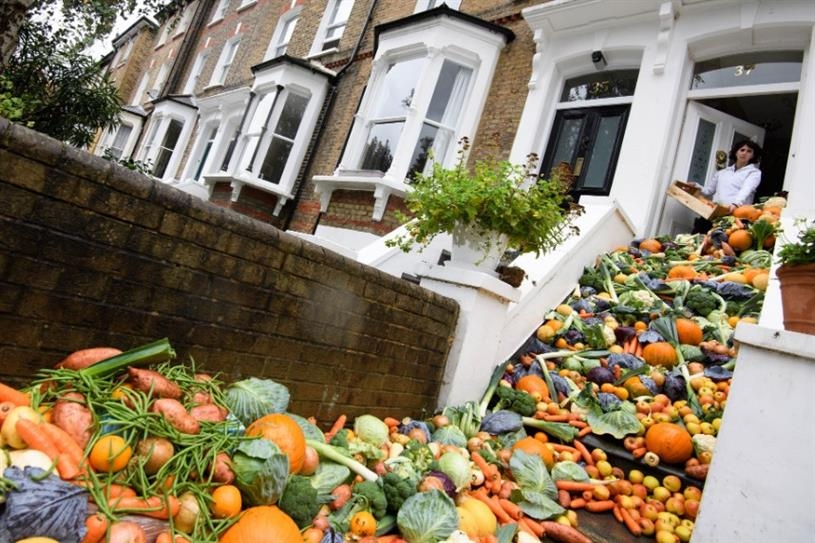kitchen_waste: (74, 326, 182, 387), (239, 408, 321, 476), (222, 434, 292, 506), (14, 413, 84, 484), (390, 486, 463, 543), (212, 502, 309, 543), (220, 375, 297, 418), (503, 446, 564, 500), (497, 484, 574, 524), (339, 477, 392, 529), (57, 342, 128, 379), (639, 418, 698, 461), (146, 393, 203, 437), (88, 430, 139, 476), (130, 434, 190, 473), (128, 363, 186, 400), (353, 411, 405, 450), (487, 382, 539, 419), (434, 448, 477, 491), (381, 467, 417, 512), (578, 316, 620, 354), (638, 335, 684, 368), (428, 418, 472, 452), (539, 517, 595, 543), (514, 371, 557, 401), (583, 363, 631, 389), (78, 509, 114, 543), (681, 285, 717, 319), (669, 314, 705, 346), (346, 508, 379, 540), (612, 505, 644, 538), (105, 517, 145, 543), (570, 438, 601, 469), (667, 262, 705, 287), (541, 400, 577, 424), (580, 494, 623, 513), (727, 227, 756, 255), (590, 447, 616, 477), (649, 516, 677, 543), (533, 320, 558, 346), (722, 266, 748, 291), (569, 414, 595, 439), (745, 268, 773, 291), (587, 480, 615, 500), (634, 236, 664, 254), (658, 472, 686, 491), (696, 383, 717, 408), (631, 397, 653, 417), (687, 372, 710, 391), (666, 496, 685, 517), (650, 486, 673, 501)
